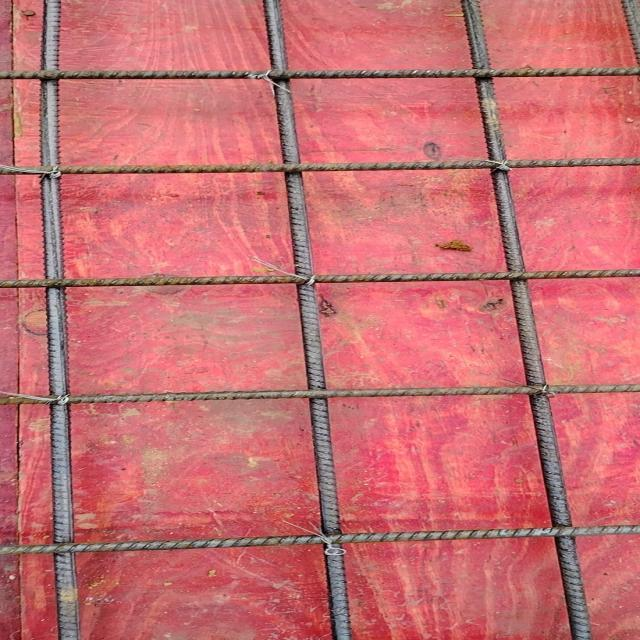ribbed bar: (458, 0, 595, 639), (260, 0, 353, 639), (36, 0, 78, 639), (0, 523, 638, 555), (0, 381, 638, 405), (0, 155, 638, 177), (0, 267, 638, 288), (0, 67, 638, 80)
